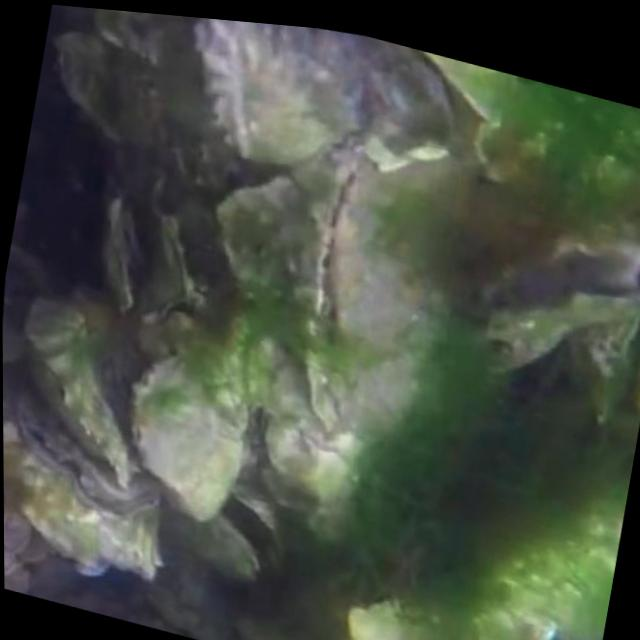Oyster-Closed: (19, 299, 138, 478)
Oyster-Indeterminate: (3, 430, 162, 584), (195, 17, 360, 157), (130, 359, 245, 513), (51, 31, 157, 146), (212, 169, 304, 294)
Oyster-Open: (300, 150, 479, 449), (19, 390, 156, 523), (481, 241, 640, 350), (106, 172, 196, 318), (166, 491, 284, 601)
